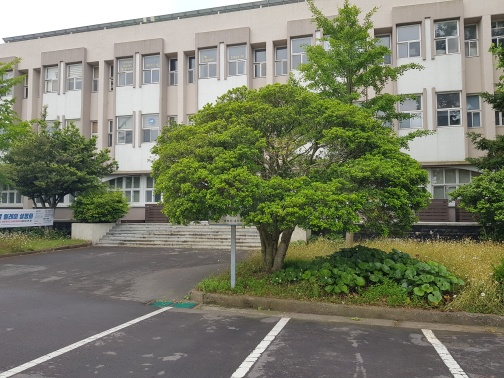Main Building of University: (12, 2, 491, 228)
